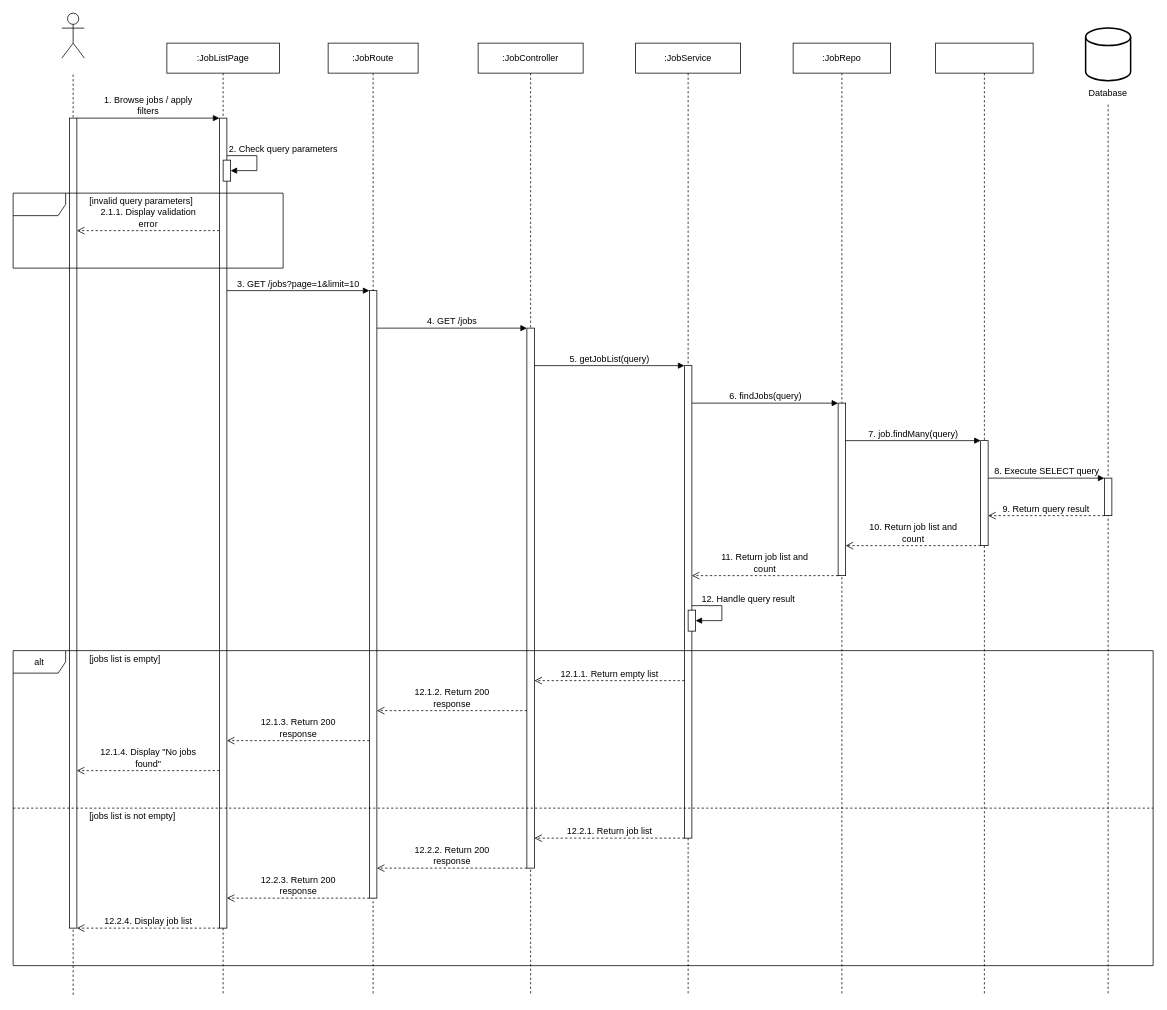
Image size: 1167x1010. Some labels were removed from this diagram. The box of each missing label's shape, as (x1, y1, x2, y2) in pixels:
:PrismaService: (935, 42, 1033, 996)
Freelancer: (61, 12, 84, 58)
opt: (12, 192, 283, 268)
